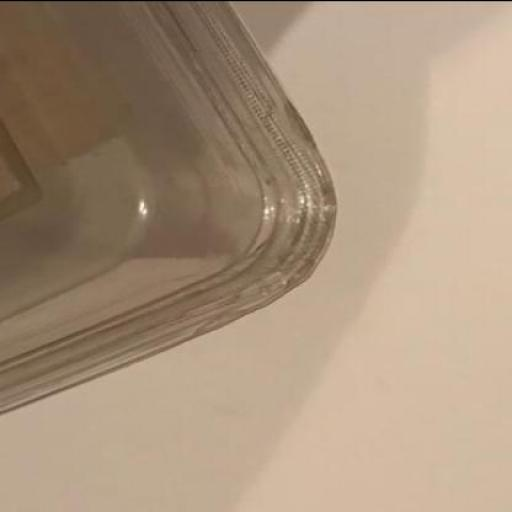plastic: (2, 1, 338, 417)
